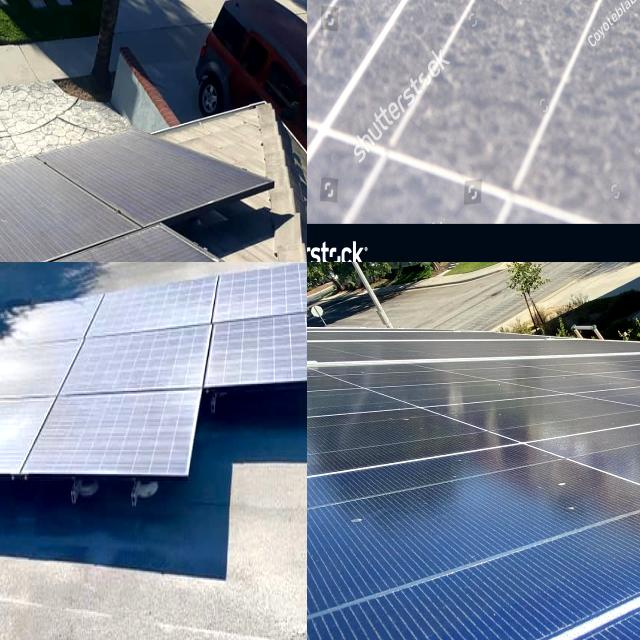dust: (441, 0, 589, 168), (457, 442, 640, 570), (307, 0, 387, 213), (307, 463, 412, 620), (307, 0, 394, 146), (429, 0, 554, 76), (56, 398, 186, 470), (95, 136, 163, 224), (88, 338, 195, 382), (0, 173, 51, 261), (226, 268, 307, 319), (101, 290, 210, 323), (0, 350, 54, 395), (244, 325, 307, 363), (0, 405, 39, 461), (8, 308, 82, 336), (0, 430, 30, 456)
